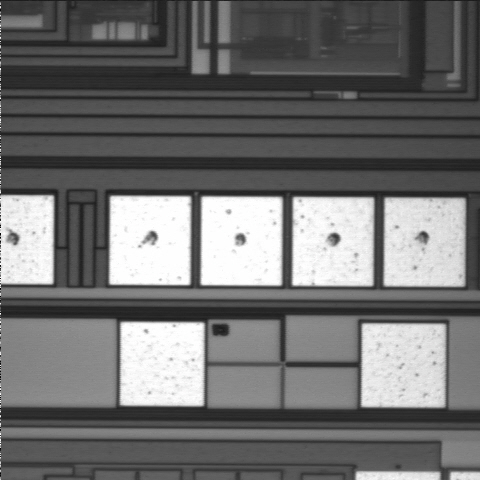pad: (109, 196, 191, 285), (292, 197, 374, 286), (201, 197, 282, 286), (384, 198, 465, 286), (120, 322, 204, 406), (361, 324, 445, 407)
